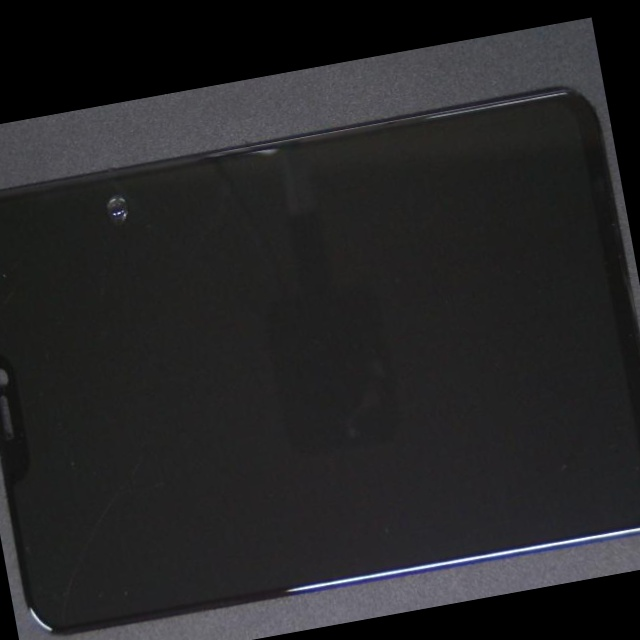oil: (24, 119, 194, 256)
